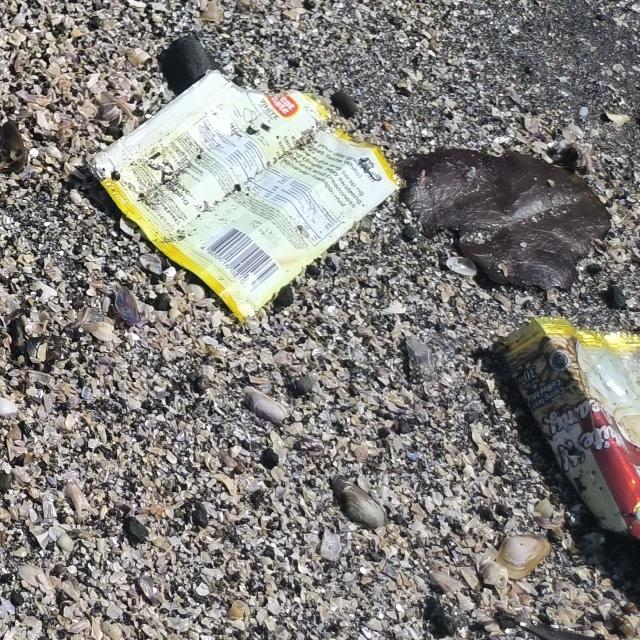litter: (82, 67, 408, 323), (500, 315, 640, 541)
